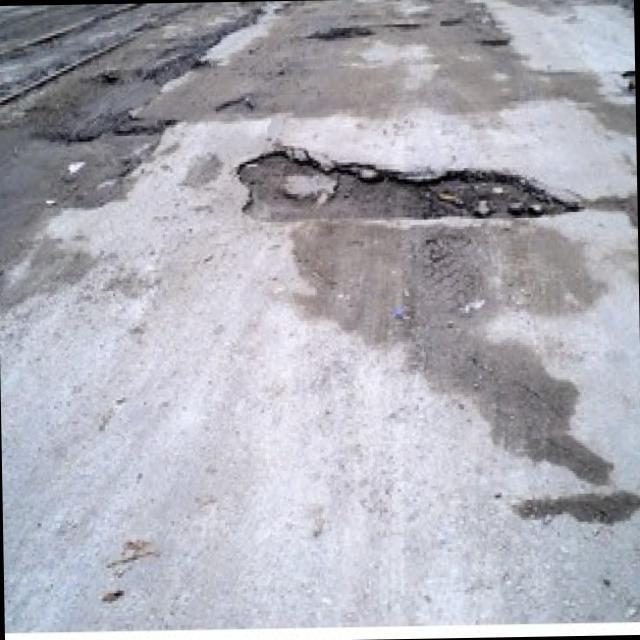pothole: (233, 143, 579, 223), (218, 95, 253, 114)
